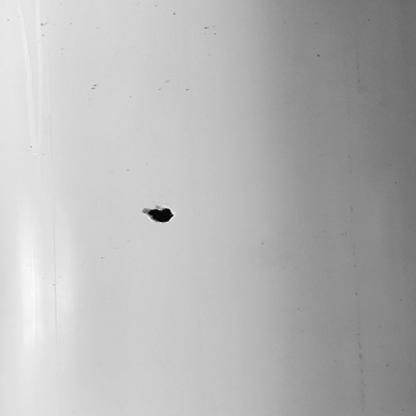kongdong: (132, 199, 193, 229)
